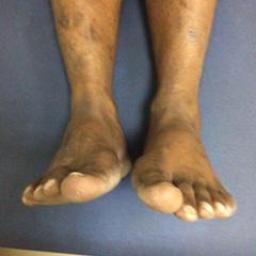Front View -Both Feet-: (16, 54, 244, 234)
